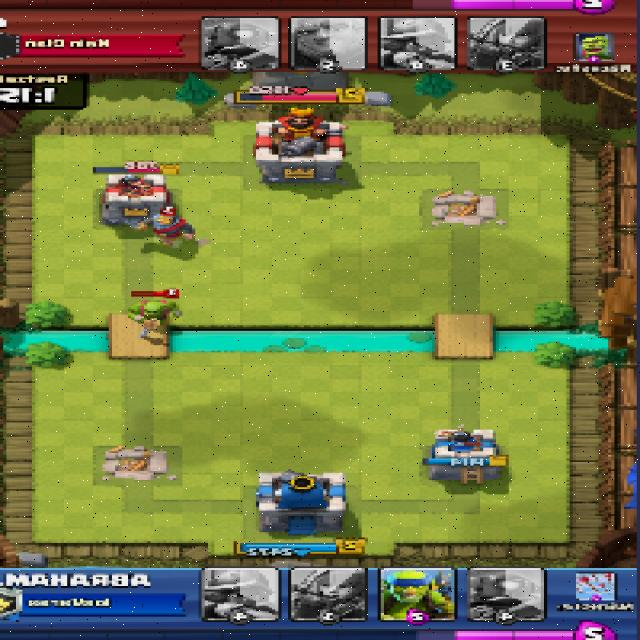Enemy-Knight: (129, 213, 202, 246)
Player-GoblinCage: (126, 295, 184, 324)
